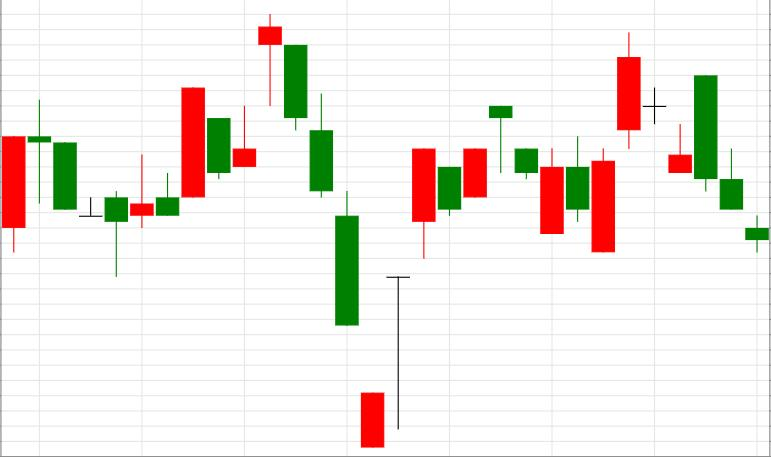three_black_crows_fall: (131, 13, 359, 325)
